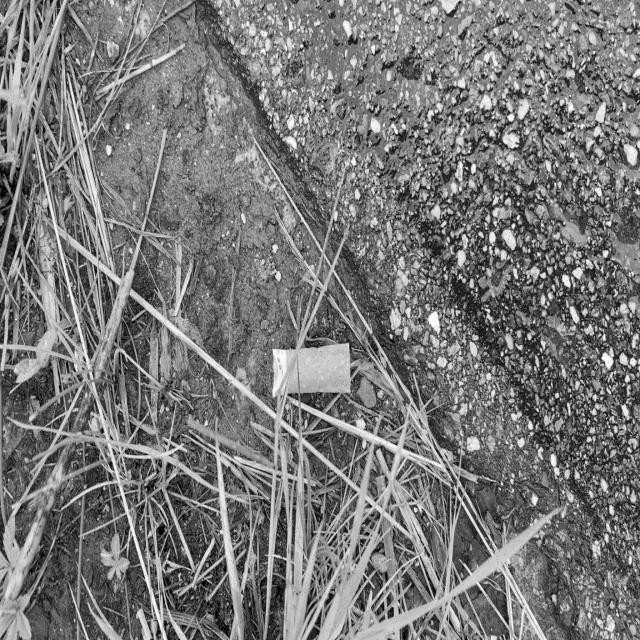other waste: (271, 342, 351, 398)
